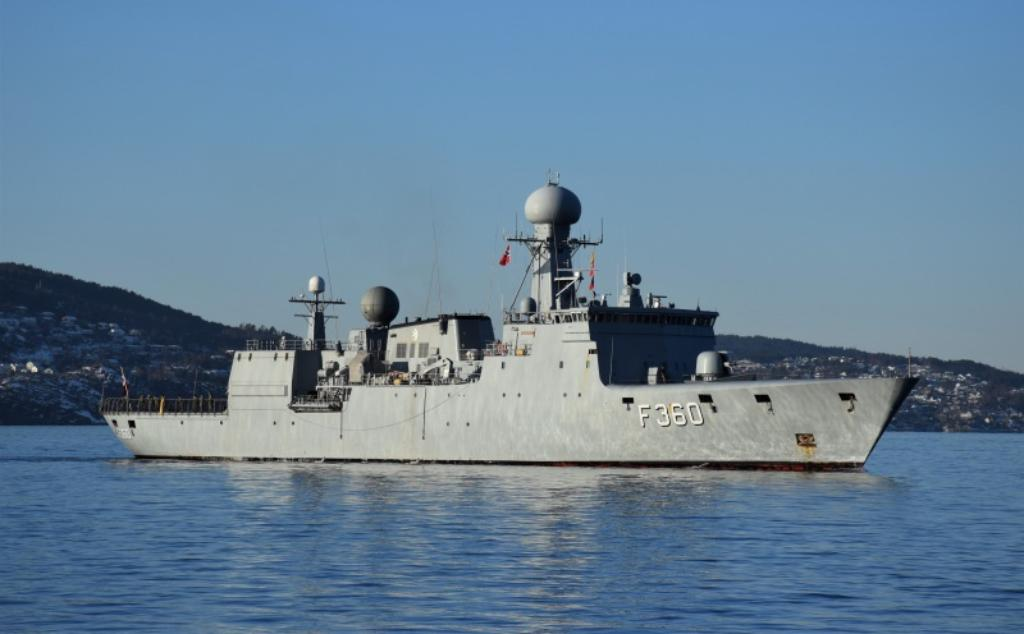Warship: (96, 172, 924, 470)
